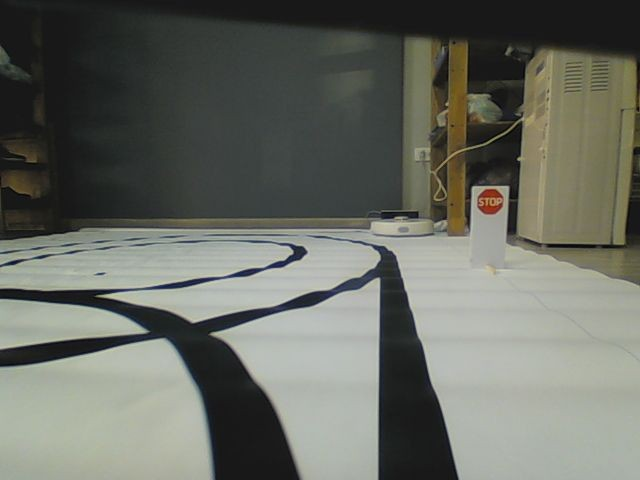Stop: (476, 187, 502, 216)
